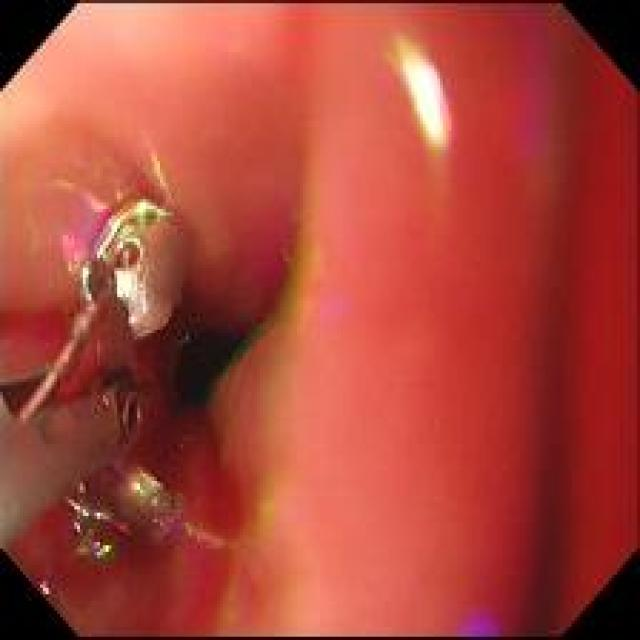color misalignment: (50, 150, 171, 301), (270, 152, 339, 325), (516, 16, 552, 162), (209, 321, 272, 394), (129, 471, 183, 533), (454, 611, 499, 635), (186, 527, 225, 549), (73, 537, 112, 558), (39, 579, 52, 597)
contrast: (147, 291, 246, 430)
instrument: (2, 200, 196, 554)
specularity: (401, 57, 453, 155), (114, 270, 149, 328), (75, 507, 110, 522)
